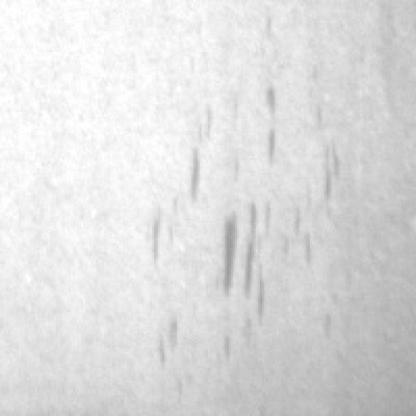inclusion: (200, 187, 283, 327), (252, 69, 285, 174)
